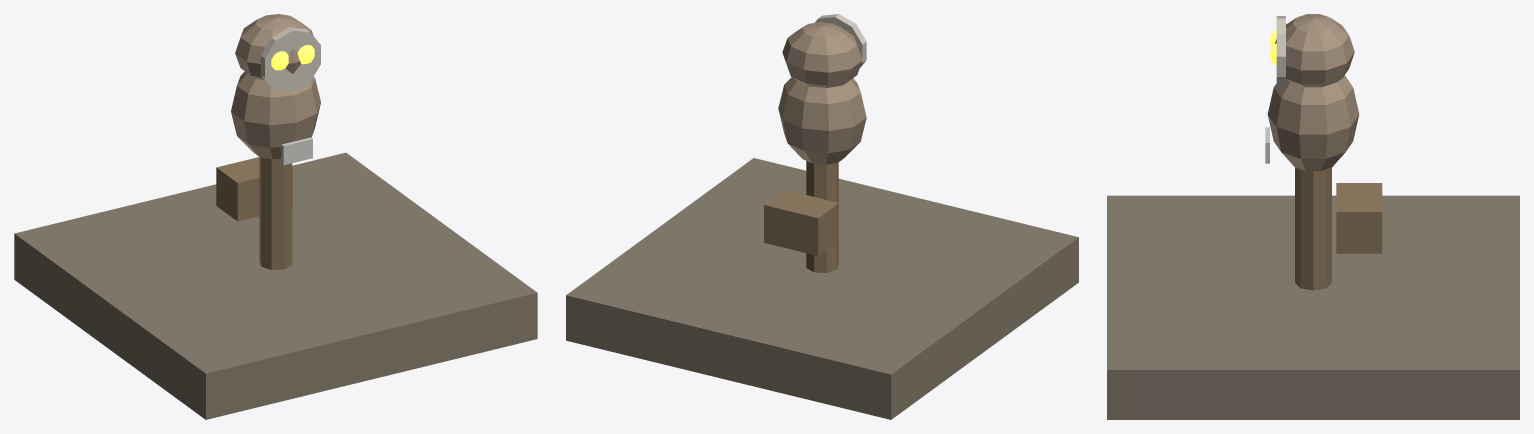
The model's file is elf_owl.glb.
The picture shows the model from 3 angles, left to right: view 1: azimuth 30°, elevation 25°; view 2: azimuth 150°, elevation 25°; view 3: azimuth 270°, elevation 25°; orthographic projection. The views are drawn at different scales.
Visible parts, largest first — view 1: elf_owlMesh, TurretMesh, HeadMesh, HeadGlow; view 2: elf_owlMesh, TurretMesh, HeadMesh; view 3: elf_owlMesh, TurretMesh, HeadMesh.
Boxes of the visible parts, box(x1,y1,x2,y2) form: elf_owlMesh: box(14, 152, 537, 419); TurretMesh: box(231, 71, 320, 165); HeadMesh: box(235, 14, 320, 91); HeadGlow: box(271, 45, 314, 70); elf_owlMesh: box(566, 158, 1078, 419); TurretMesh: box(778, 77, 866, 164); HeadMesh: box(782, 14, 866, 87); elf_owlMesh: box(1107, 167, 1519, 419); TurretMesh: box(1265, 75, 1359, 171); HeadMesh: box(1275, 14, 1354, 87).
Bounding box in the file's own units: 1.8 × 1.51 × 1.8.
